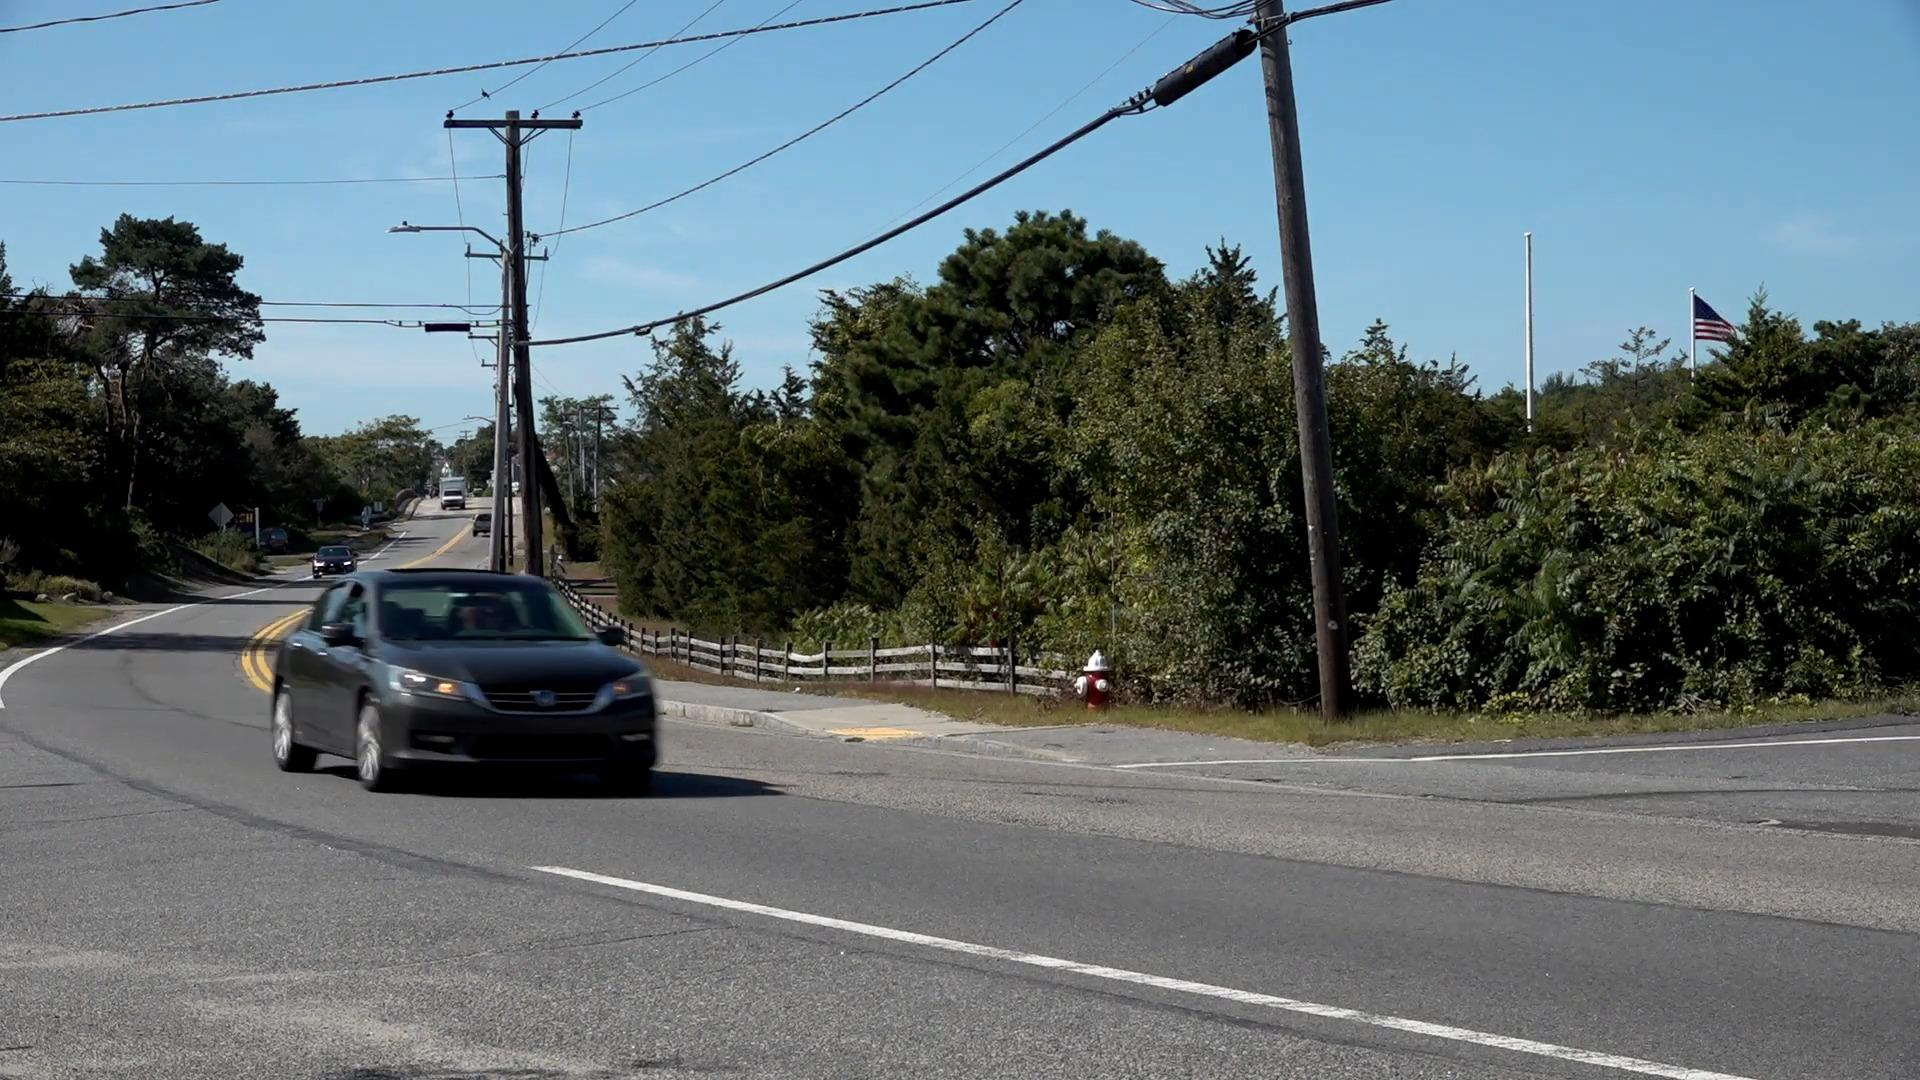sedans: (277, 564, 659, 799)
